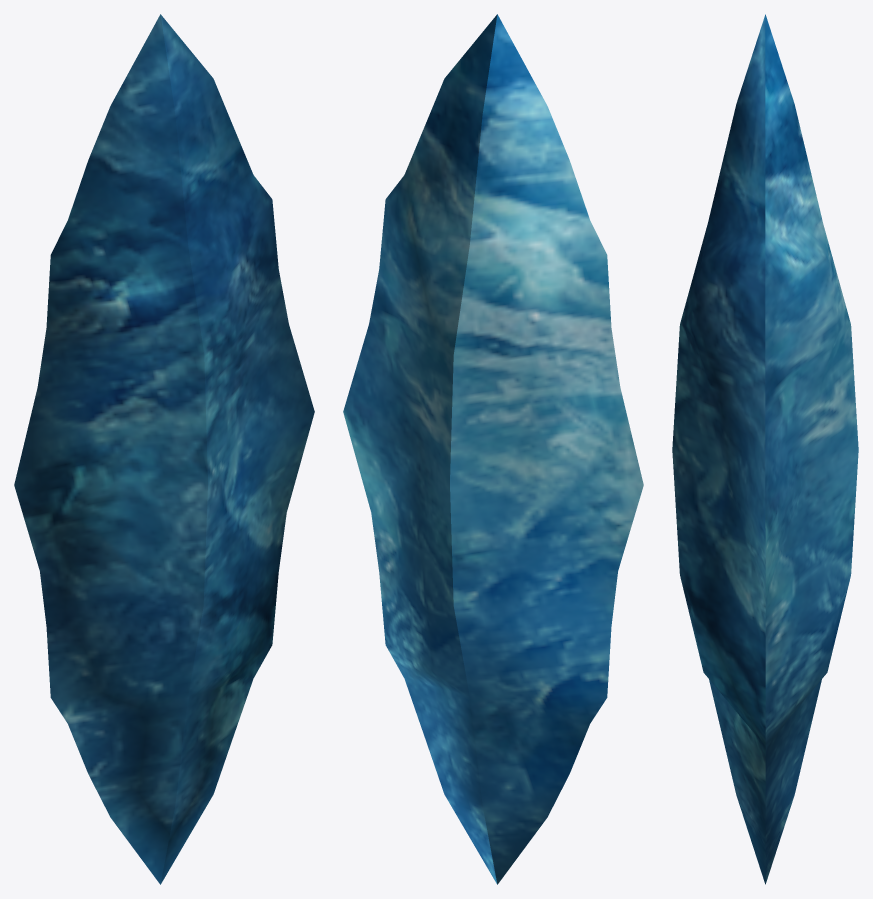
Rendered from bing_1.FBX.
3 renders of one model, left to right at view 1: azimuth 30°, elevation 25°; view 2: azimuth 150°, elevation 25°; view 3: azimuth 270°, elevation 25°, orthographic.
Parts seen in each view (by area): view 1: HP2_20150728_0012:polySurface5; view 2: HP2_20150728_0012:polySurface5; view 3: HP2_20150728_0012:polySurface5.
Boxes of the visible parts, bbox=[...] form: HP2_20150728_0012:polySurface5: bbox=[14, 14, 314, 884]; HP2_20150728_0012:polySurface5: bbox=[343, 14, 643, 884]; HP2_20150728_0012:polySurface5: bbox=[672, 14, 858, 884].
Size of the model in its own units: 0.3006 by 0.832 by 0.1613.
